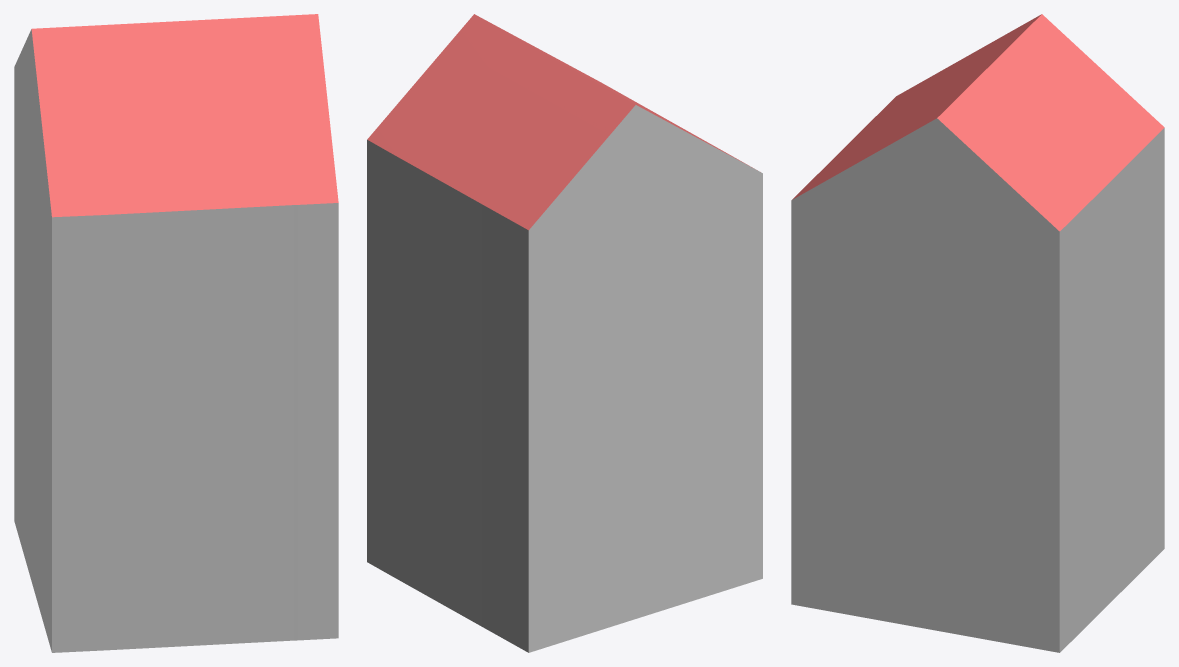
File: DEBY_LOD2_4907033.gltf
The picture shows the model from 3 angles, left to right: view 1: azimuth 30°, elevation 25°; view 2: azimuth 150°, elevation 25°; view 3: azimuth 270°, elevation 25°; orthographic projection. The views are drawn at different scales.
Parts seen in each view (by area): view 1: Z_UP; view 2: Z_UP; view 3: Z_UP.
Boxes of the visible parts, bbox=[...] form: Z_UP: bbox=[14, 14, 338, 652]; Z_UP: bbox=[367, 14, 762, 652]; Z_UP: bbox=[791, 14, 1164, 652].
Bounding box in the file's own units: 14.66 × 22.96 × 15.16.
